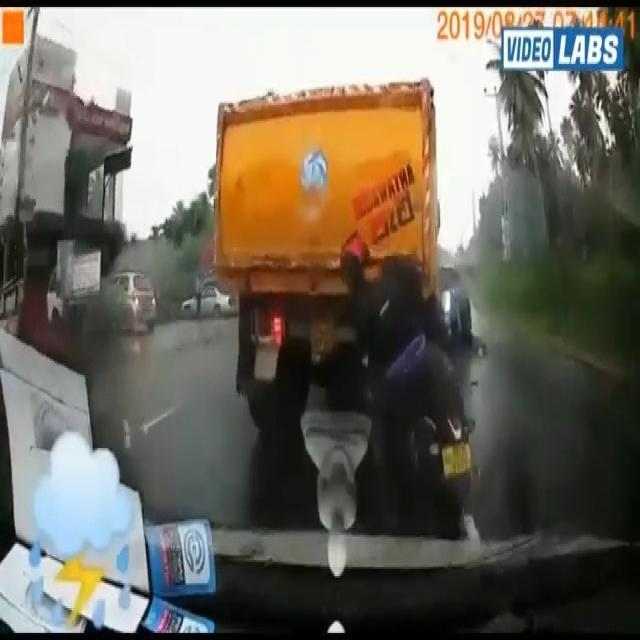multiple_accident: (333, 179, 524, 531)
